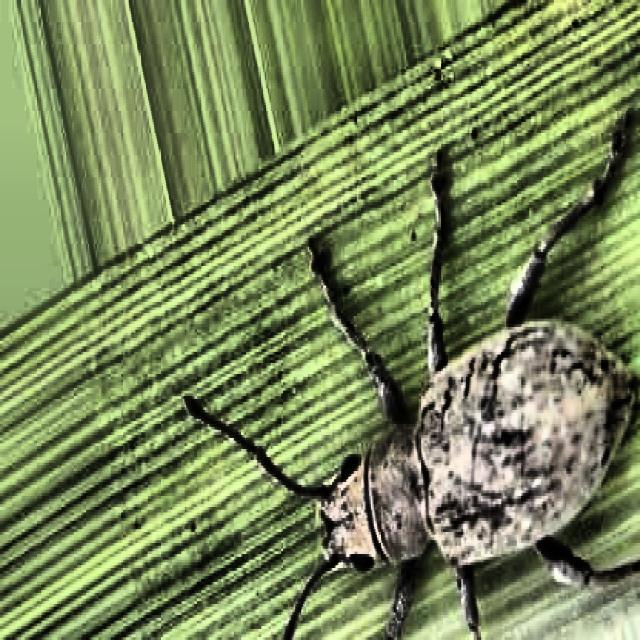Stink bug: (192, 160, 640, 631)
